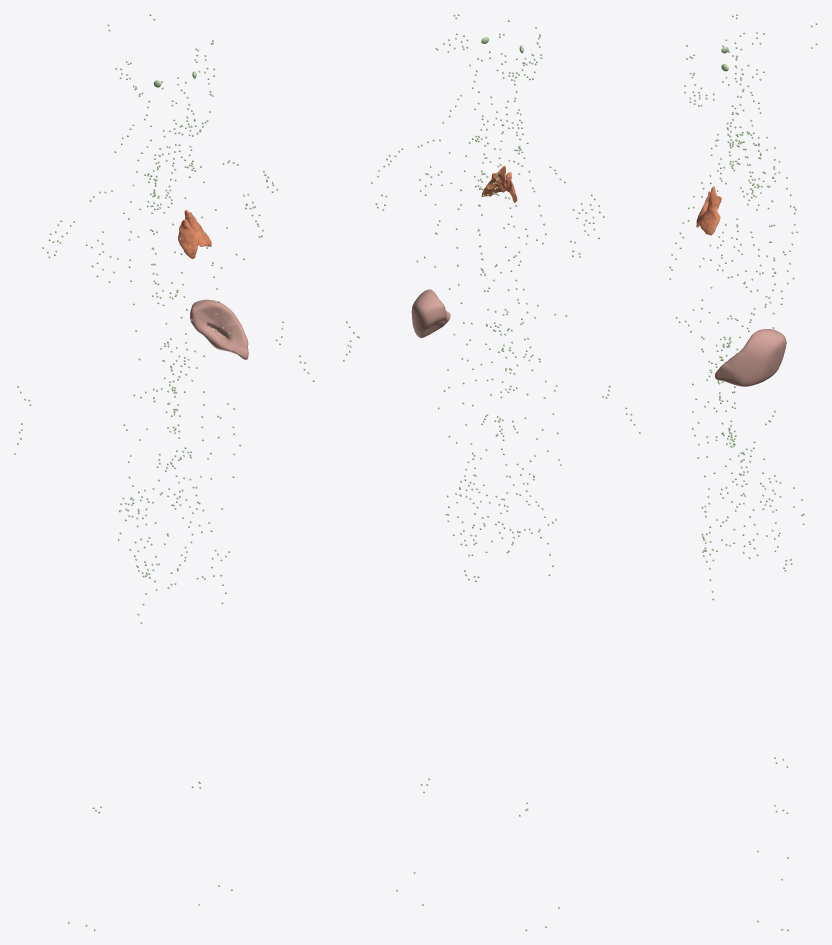
Rendered from lymphoid.glb.
The picture shows the model from 3 angles, left to right: view 1: azimuth 30°, elevation 25°; view 2: azimuth 150°, elevation 25°; view 3: azimuth 270°, elevation 25°; orthographic projection.
Parts seen in each view (by area): view 1: Spleen; view 2: Spleen; view 3: Spleen, Left lobe of thymus.
Part boxes in pixels (bbox=[...]): Spleen: bbox=[190, 299, 248, 359]; Spleen: bbox=[411, 289, 450, 337]; Spleen: bbox=[715, 329, 786, 386]; Left lobe of thymus: bbox=[699, 186, 721, 235].
Size of the model in its own units: 0.4523 by 1.28 by 0.1963.
